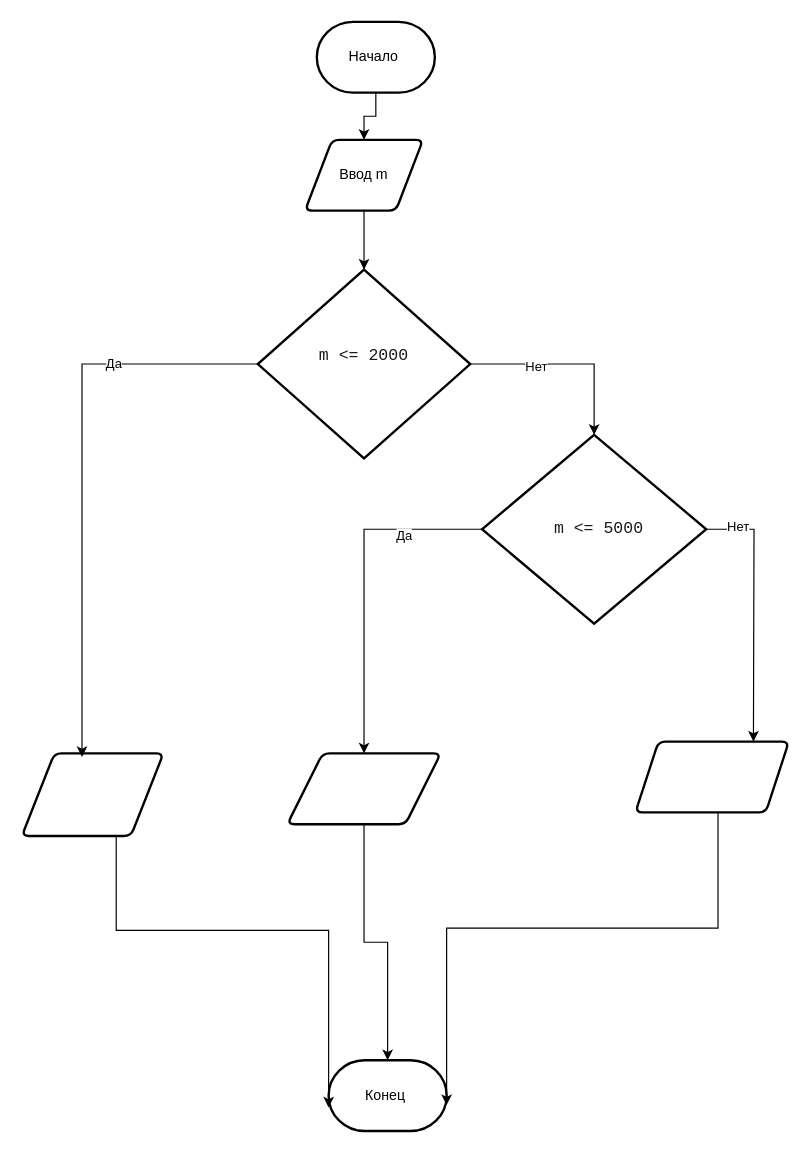
The diagram is 809 pixels wide and 1152 high, and some of its shapes have lost their labels. The centre of each missing label's shape, as x and y in pixels:
Вывод CARGO: the point at 363,788
Вывод COURIER: the point at 711,776
Вывод SMALL: the point at 92,794
